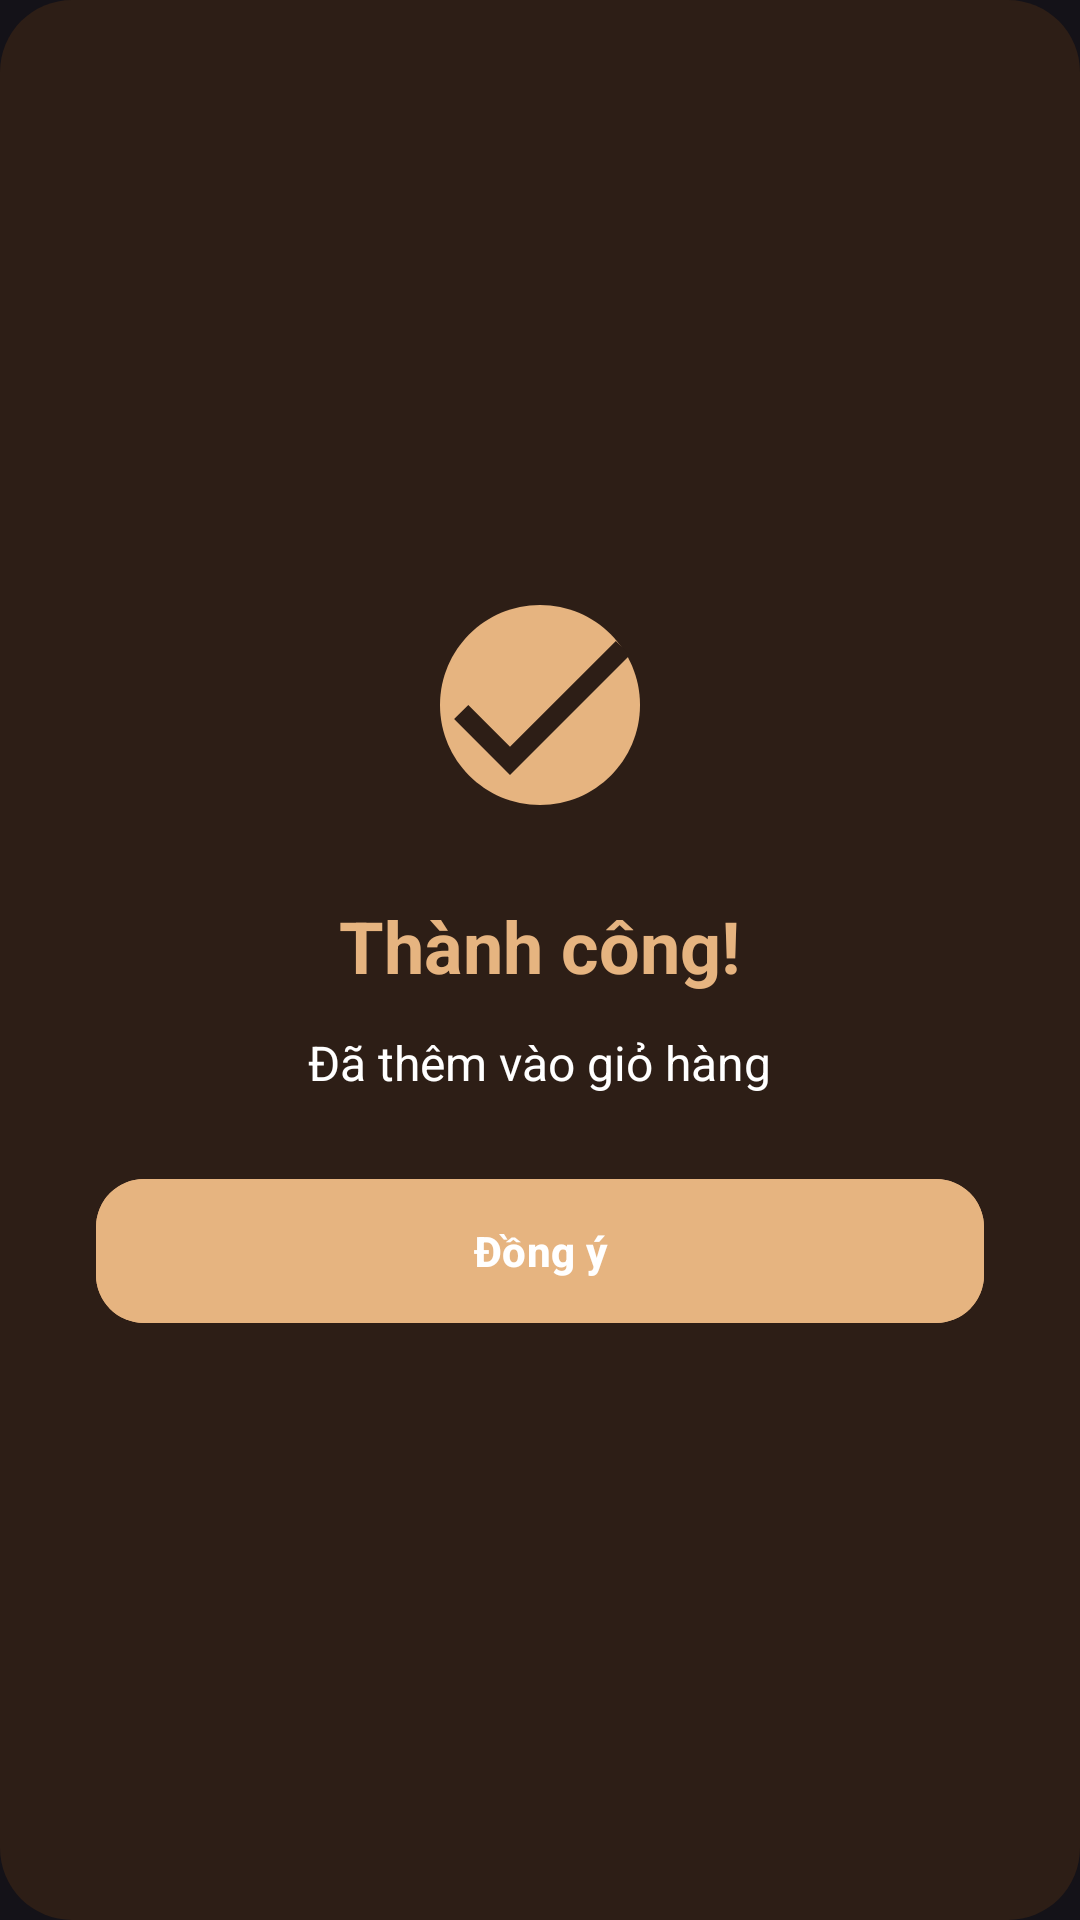

Icons on this 1080*1920 Android screen, each with its box as bbox=[x1, y1, x2, y2]:
success: bbox=[440, 605, 640, 805]
